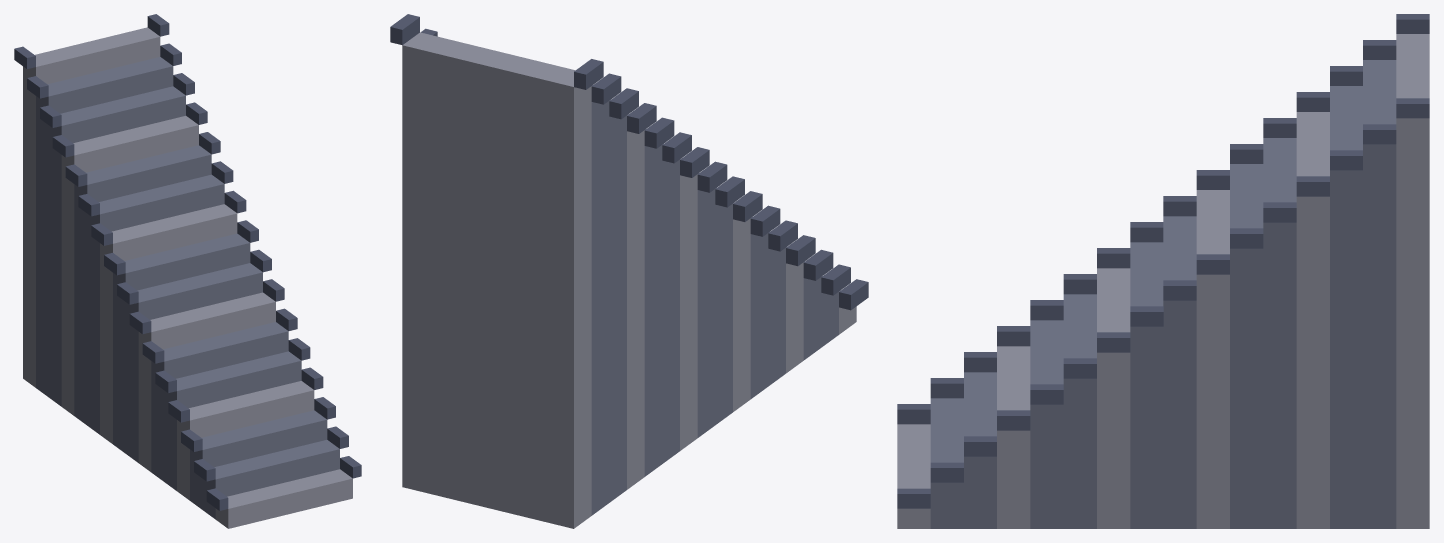
The model's file is EG_Escalera_Adarve.fbx.
3 views of the same model, side by side, from view 1: azimuth 30°, elevation 25°; view 2: azimuth 150°, elevation 25°; view 3: azimuth 270°, elevation 25° (orthographic). The views are drawn at different scales.
Parts seen in each view (by area): view 1: EG_Escalera_Adarve; view 2: EG_Escalera_Adarve; view 3: EG_Escalera_Adarve.
Boxes of the visible parts, <box> form: EG_Escalera_Adarve: <box>14,14,361,528</box>; EG_Escalera_Adarve: <box>390,14,868,528</box>; EG_Escalera_Adarve: <box>897,14,1429,528</box>.
Bounding box in the file's own units: 1.6 × 3.57 × 4.
1 material, 1 textured.
